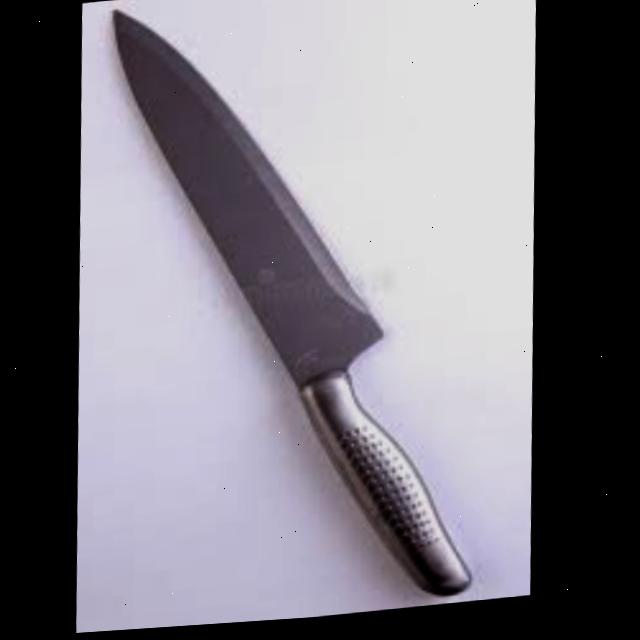knife: (91, 0, 501, 629)
